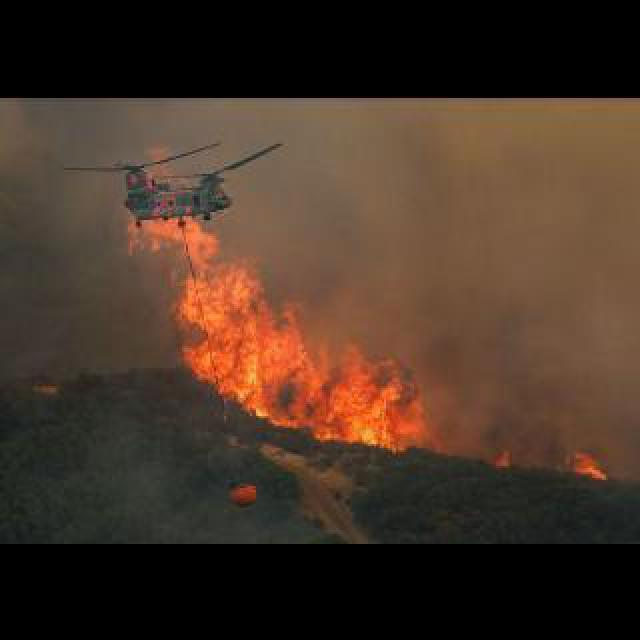Fire: (124, 210, 440, 456), (564, 448, 610, 482), (494, 446, 514, 468)
